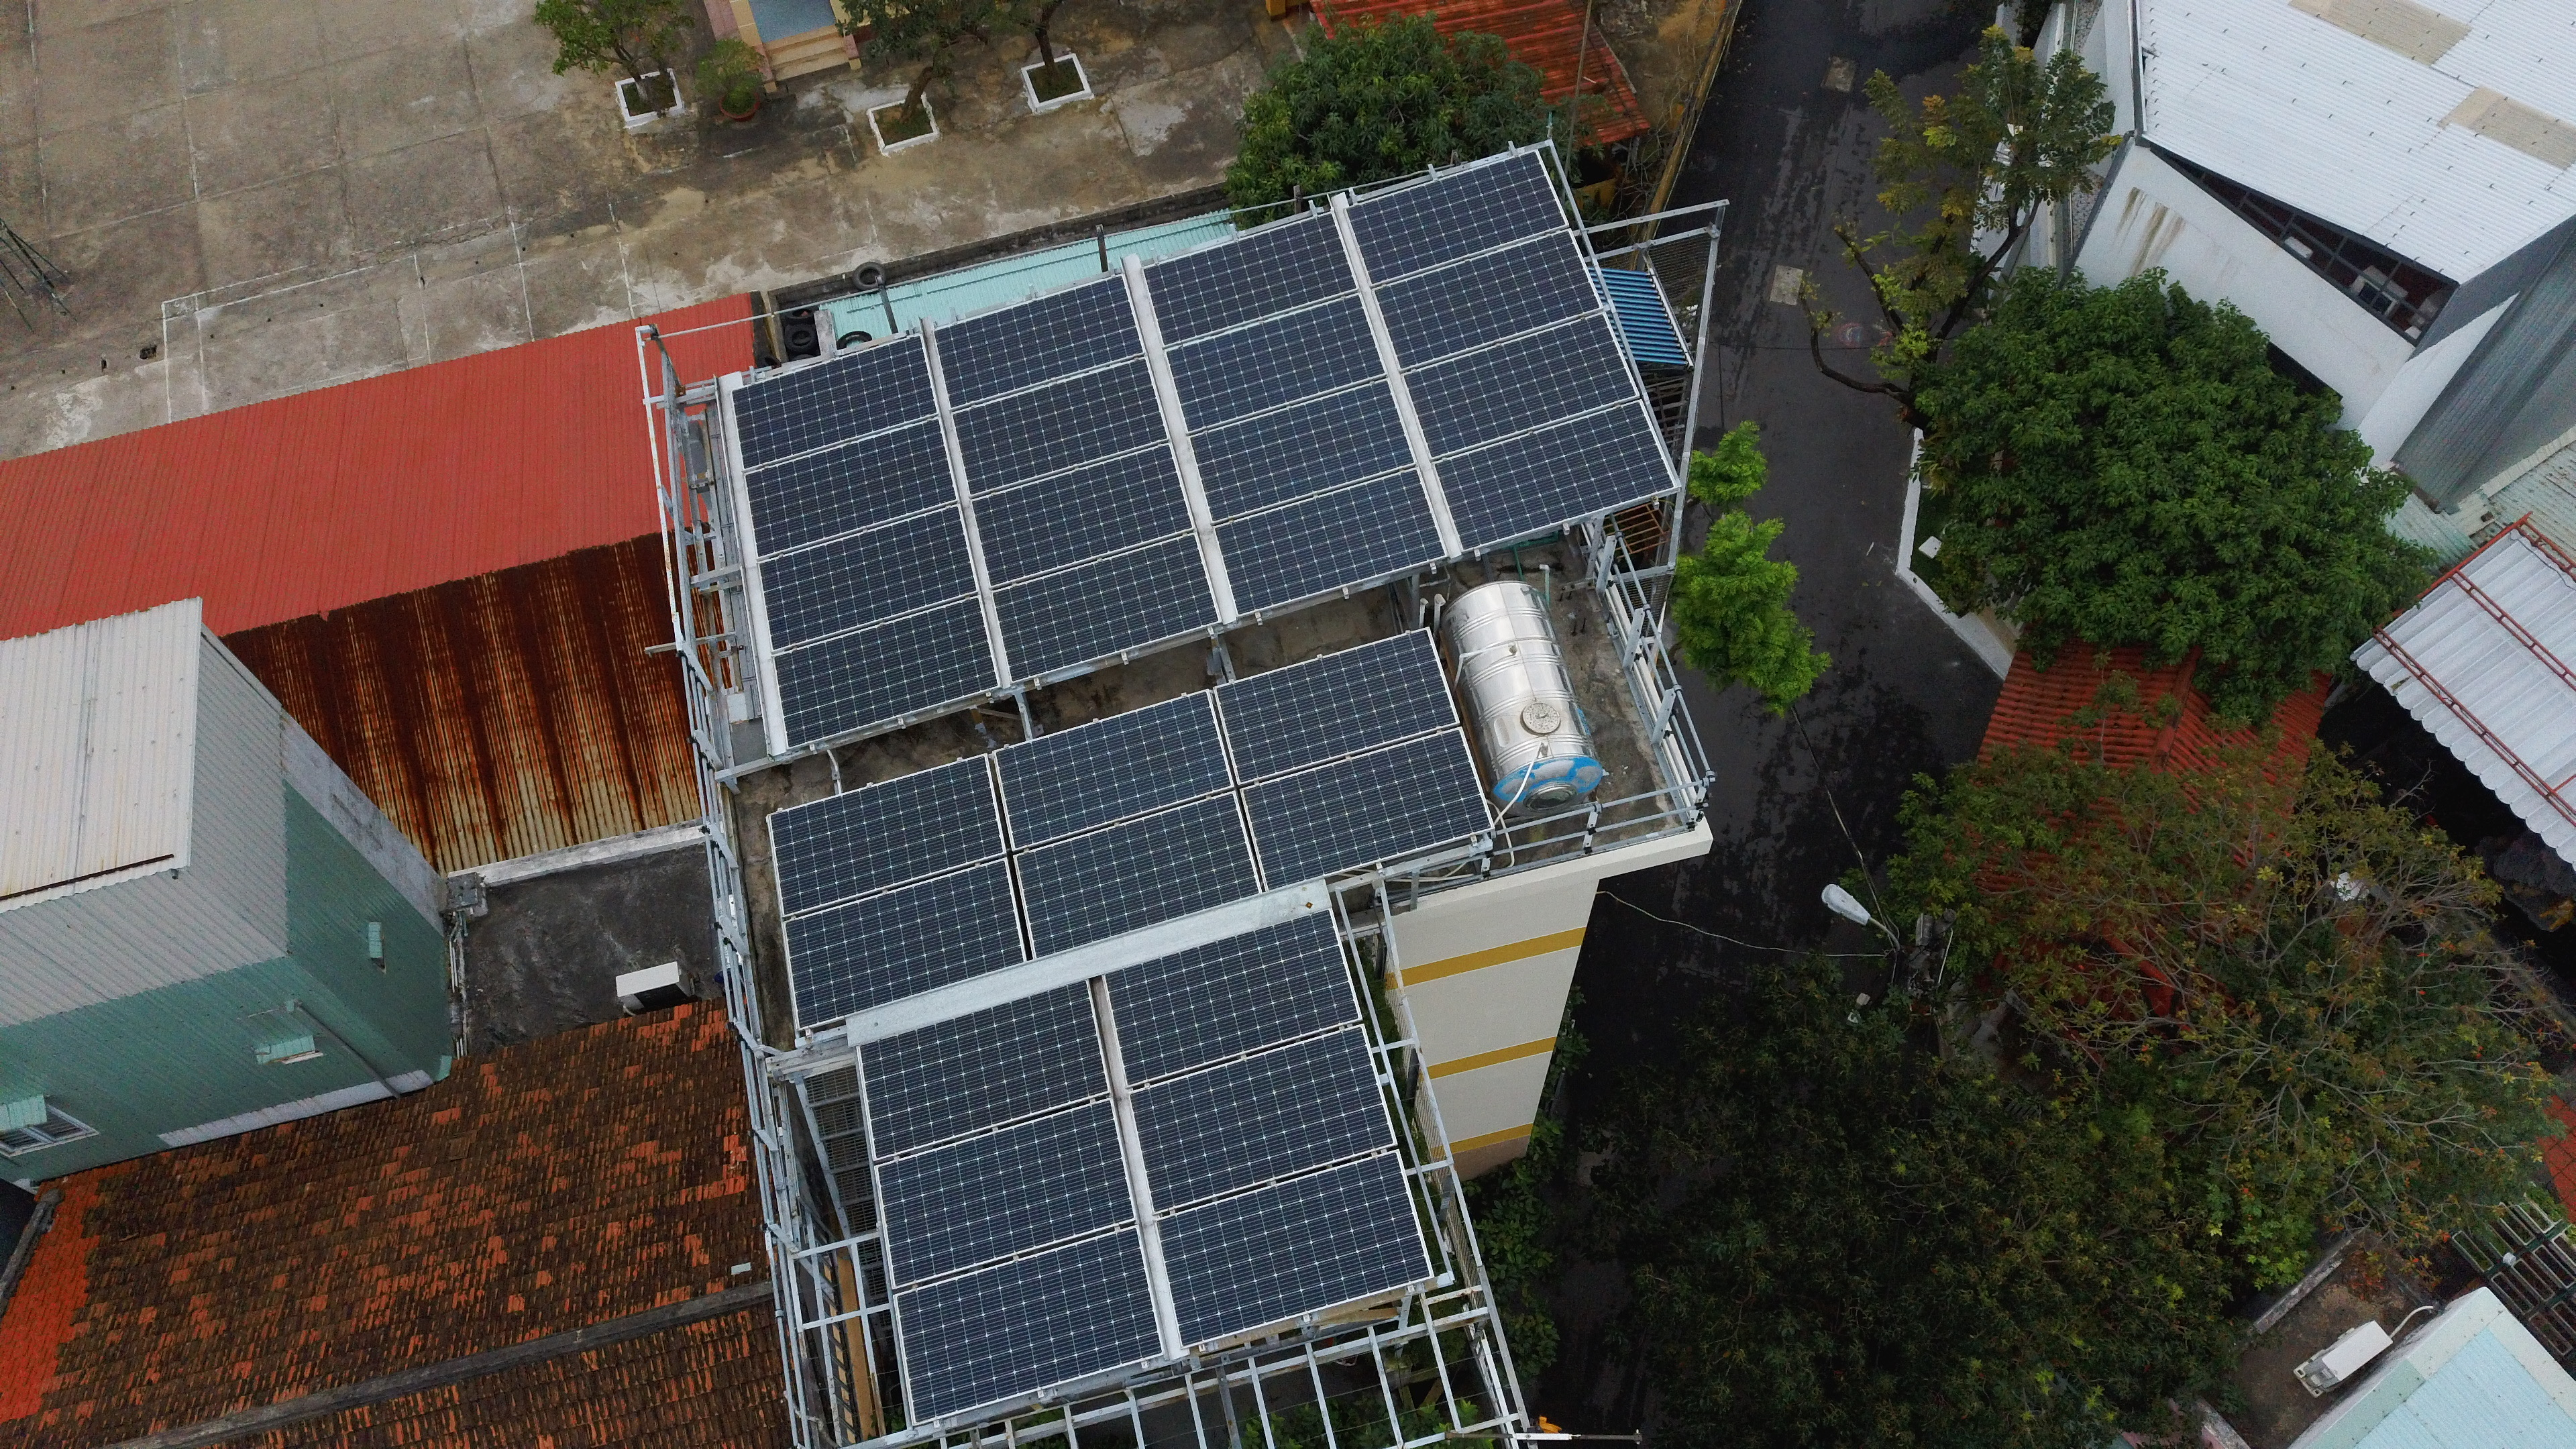solar: (1154, 1134, 1438, 1355), (883, 1214, 1166, 1435), (869, 1088, 1136, 1299), (1131, 1019, 1396, 1230), (1099, 904, 1366, 1092), (849, 980, 1116, 1166), (1008, 787, 1274, 966), (771, 855, 1037, 1033), (1224, 718, 1495, 893), (747, 755, 1010, 925), (975, 686, 1240, 855), (1196, 626, 1461, 794), (1426, 391, 1683, 557), (1399, 297, 1645, 464), (720, 402, 959, 570), (1366, 214, 1605, 380), (1180, 370, 1419, 536), (961, 423, 1200, 589), (738, 492, 977, 658), (1154, 280, 1394, 441), (1207, 460, 1445, 621), (982, 529, 1223, 688), (761, 596, 1000, 755), (725, 313, 938, 488), (950, 340, 1168, 494), (1141, 205, 1359, 357), (1348, 140, 1566, 292), (932, 269, 1150, 421)
